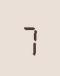seven: (19, 19, 38, 56)
